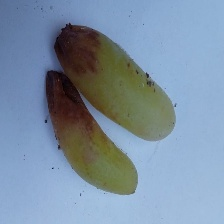grapes: (29, 1, 173, 191)
